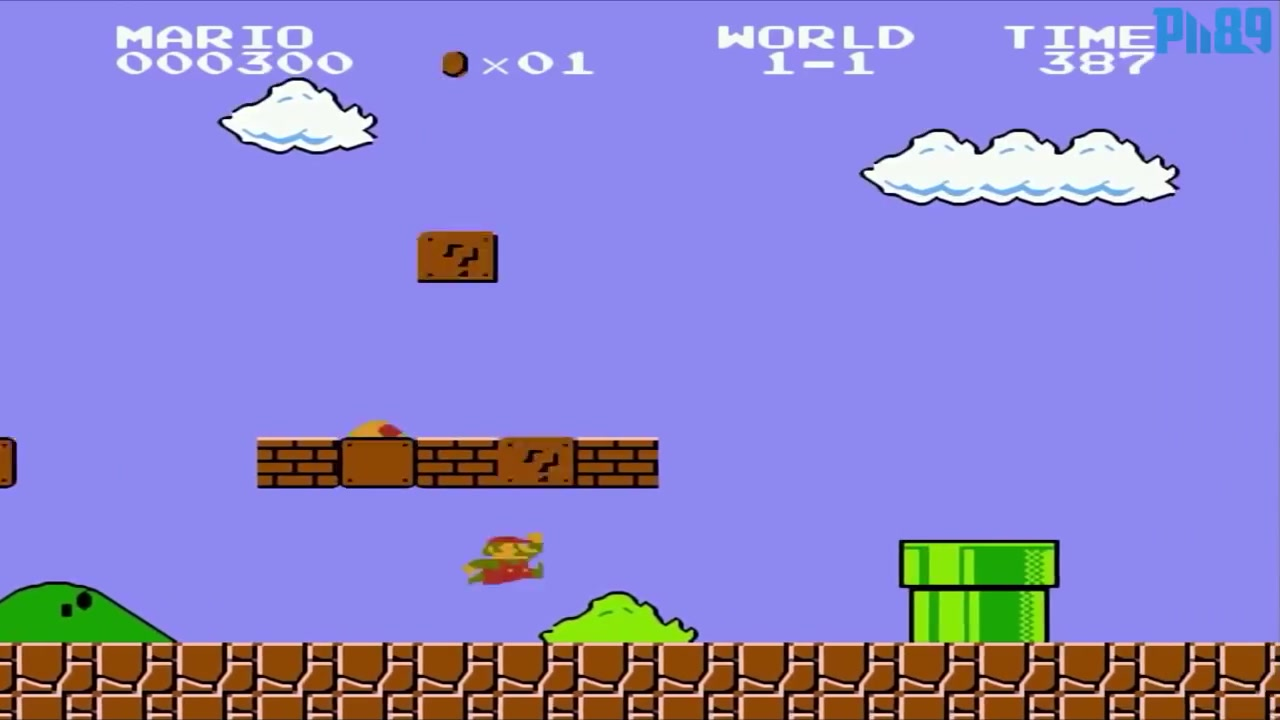mario: (462, 523, 553, 597)
